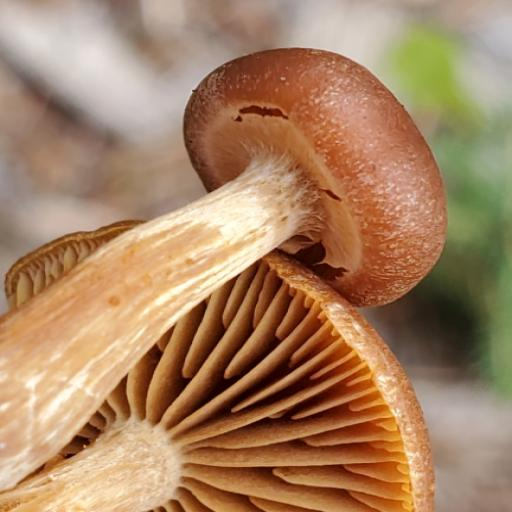Funeral Bell: (0, 45, 455, 511)
